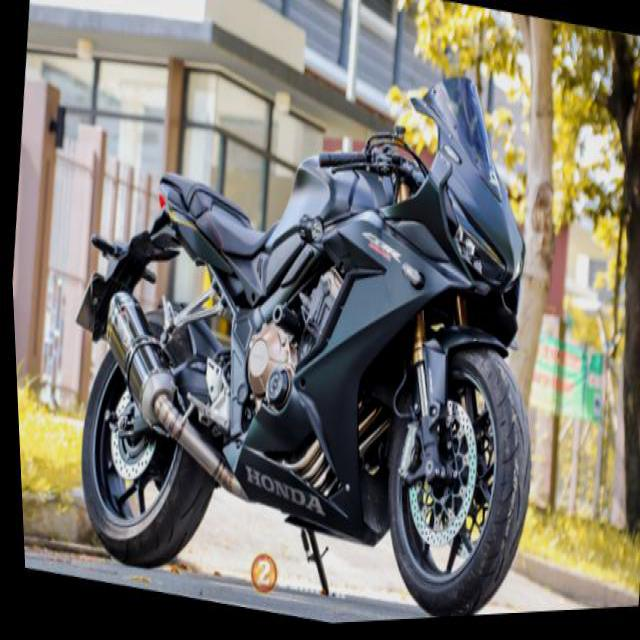CBR650R: (38, 0, 574, 637)
